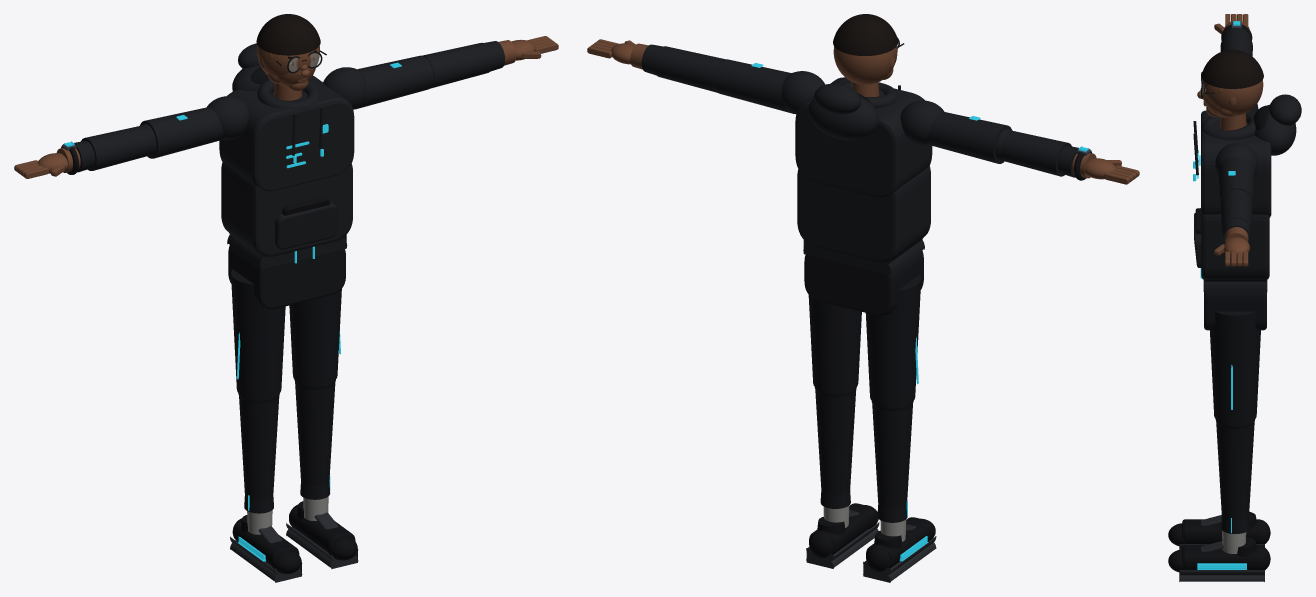
Rendered from engineer-character.glb.
3 views of the same model, side by side, from view 1: azimuth 30°, elevation 25°; view 2: azimuth 150°, elevation 25°; view 3: azimuth 270°, elevation 25° (orthographic). The views are drawn at different scales.
Parts seen in each view (by area): view 1: cloth_torso_chest, cloth_torso_lower, cloth_thigh_L, cloth_hips, cloth_thigh_R, cloth_calf_R, cloth_calf_L, cloth_upper_arm_L, cloth_upper_arm_R, cloth_pocket, body_hair_cap, cloth_forearm_R (+10 smaller); view 2: cloth_torso_lower, cloth_torso_chest, cloth_thigh_L, cloth_hips, cloth_thigh_R, cloth_calf_L, cloth_calf_R, cloth_upper_arm_L, cloth_upper_arm_R, body_hair_cap, cloth_forearm_R, cloth_forearm_L (+10 smaller); view 3: cloth_thigh_R, cloth_torso_chest, cloth_torso_lower, cloth_calf_R, body_hair_cap, cloth_hips, cleat_body_R, body_cranium, cloth_upper_arm_R, cleat_body_L, cleat_sole_R, cloth_forearm_R (+20 smaller).
Part boxes in pixels (x1,y1,x2,y2): cloth_torso_chest: (219, 75, 354, 191); cloth_torso_lower: (221, 162, 352, 256); cloth_thigh_L: (231, 269, 285, 398); cloth_hips: (228, 245, 345, 309); cloth_thigh_R: (289, 289, 341, 385); cloth_calf_R: (295, 382, 335, 486); cloth_calf_L: (239, 396, 279, 499); cloth_upper_arm_L: (140, 107, 223, 158); cloth_upper_arm_R: (355, 55, 432, 109); cloth_pocket: (275, 202, 337, 249); body_hair_cap: (256, 14, 320, 55); cloth_forearm_R: (422, 42, 492, 88); cloth_torso_lower: (797, 166, 930, 262); cloth_torso_chest: (795, 77, 932, 197); cloth_thigh_L: (865, 275, 921, 406); cloth_hips: (804, 250, 923, 315); cloth_thigh_R: (808, 295, 861, 392); cloth_calf_L: (872, 404, 912, 508); cloth_calf_R: (815, 389, 856, 494); cloth_upper_arm_L: (927, 111, 1012, 163); cloth_upper_arm_R: (714, 59, 793, 113); body_hair_cap: (833, 14, 898, 55); cloth_forearm_R: (654, 46, 725, 92); cloth_forearm_L: (1000, 130, 1071, 176); cloth_thigh_R: (1210, 311, 1260, 424); cloth_torso_chest: (1201, 110, 1271, 217); cloth_torso_lower: (1201, 214, 1269, 279); cloth_calf_R: (1216, 422, 1254, 520); body_hair_cap: (1201, 49, 1263, 88); cloth_hips: (1204, 291, 1266, 330); cleat_body_R: (1182, 545, 1261, 570); body_cranium: (1202, 80, 1263, 115); cloth_upper_arm_R: (1218, 156, 1255, 205); cleat_body_L: (1182, 519, 1261, 544); cleat_sole_R: (1179, 570, 1264, 581); cloth_forearm_R: (1220, 189, 1252, 235).
Bounding box in the file's own units: 1.77 × 1.7 × 0.4017.
